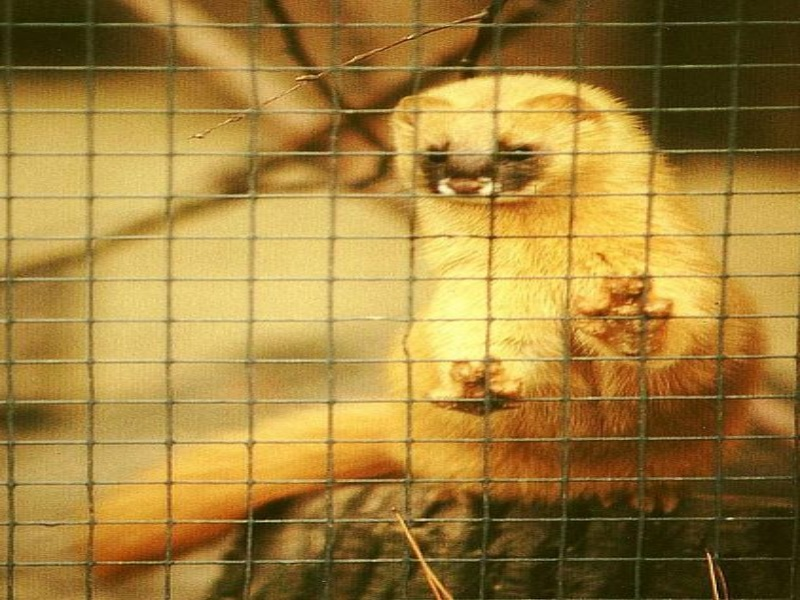minkish: (78, 72, 754, 569)
